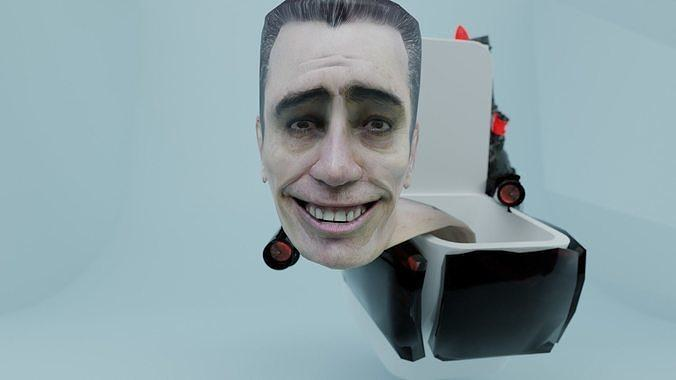skibidi-toilet: (264, 11, 412, 266)
